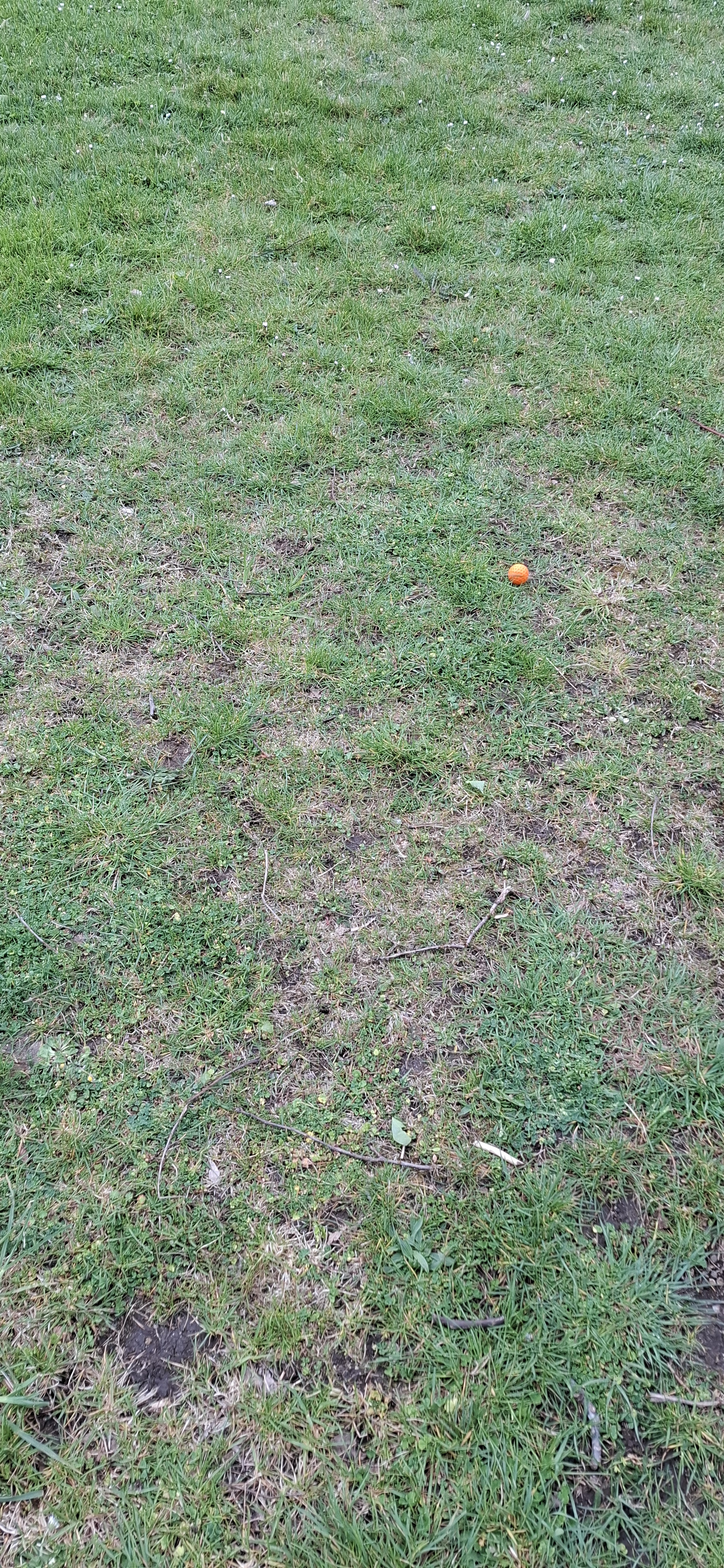ball: (260, 423, 270, 469)
